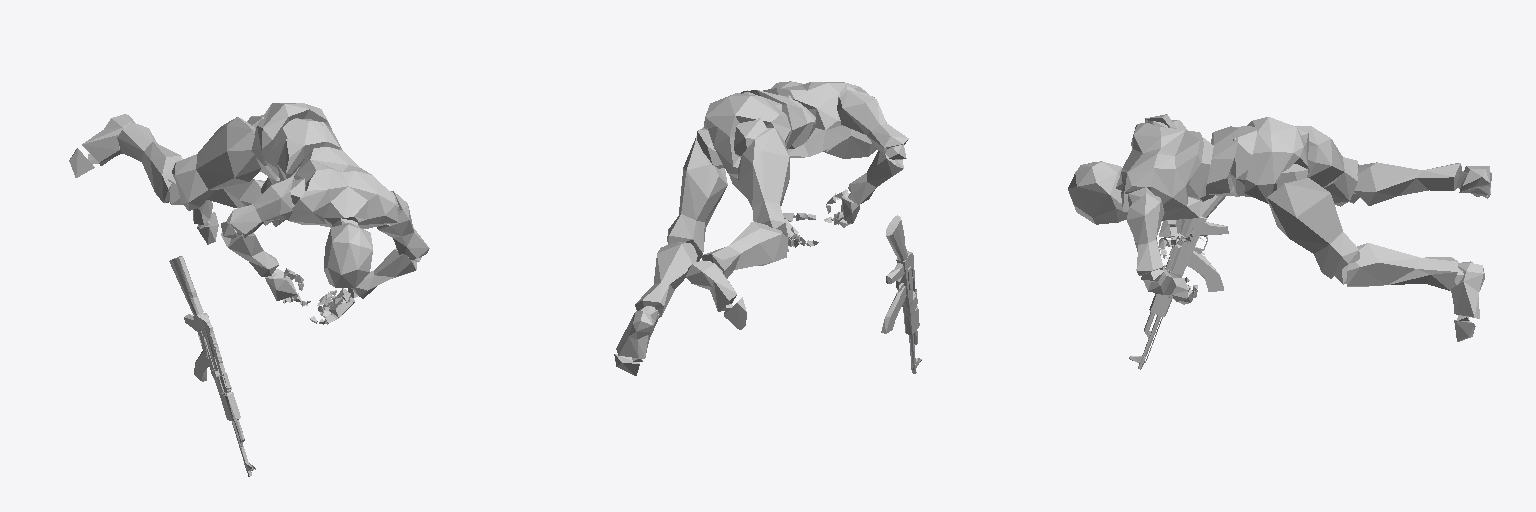
File: EnemyDying_000039.obj
The picture shows the model from 3 angles: view 1: azimuth 30°, elevation 25°; view 2: azimuth 150°, elevation 25°; view 3: azimuth 270°, elevation 25°; orthographic projection.
Parts seen in each view (by area): view 1: Alpha_Surface, AK-47_Cube, Alpha_Joints; view 2: Alpha_Surface, AK-47_Cube, Alpha_Joints; view 3: Alpha_Surface, Alpha_Joints, AK-47_Cube.
Boxes of the visible parts, x1=… form: Alpha_Surface: x1=69, y1=103, x2=429, y2=324; AK-47_Cube: x1=169, y1=256, x2=255, y2=476; Alpha_Joints: x1=88, y1=115, x2=421, y2=324; Alpha_Surface: x1=614, y1=81, x2=908, y2=375; AK-47_Cube: x1=881, y1=215, x2=921, y2=373; Alpha_Joints: x1=632, y1=85, x2=906, y2=361; Alpha_Surface: x1=1068, y1=114, x2=1491, y2=341; Alpha_Joints: x1=1116, y1=120, x2=1487, y2=321; AK-47_Cube: x1=1129, y1=196, x2=1228, y2=369.
Size of the model in its own units: 177 by 239 by 305.